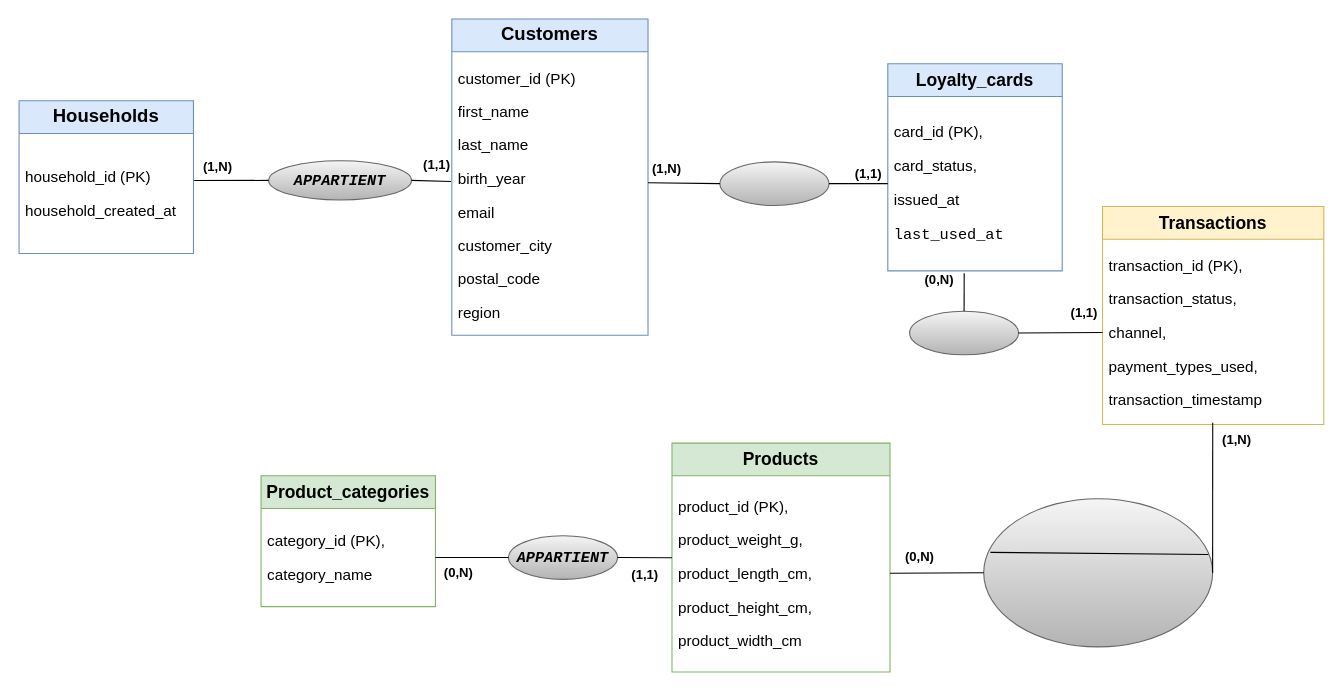
Image size: 1343x691. Some labels were removed from this diagram. Here are the shapes that lost their labels. From the top down, the centre of each, then its label:
the point at 774,183: POSSEDE
the point at 964,332: EFFECTUE
the point at 1098,572: CONTIENT quantity, unit_price
